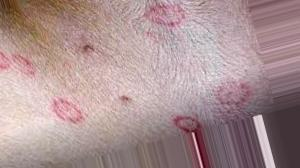Tick: (43, 91, 90, 128), (45, 92, 89, 129), (209, 81, 252, 117), (0, 51, 40, 80), (170, 113, 203, 135), (118, 95, 131, 105), (79, 43, 92, 53)
